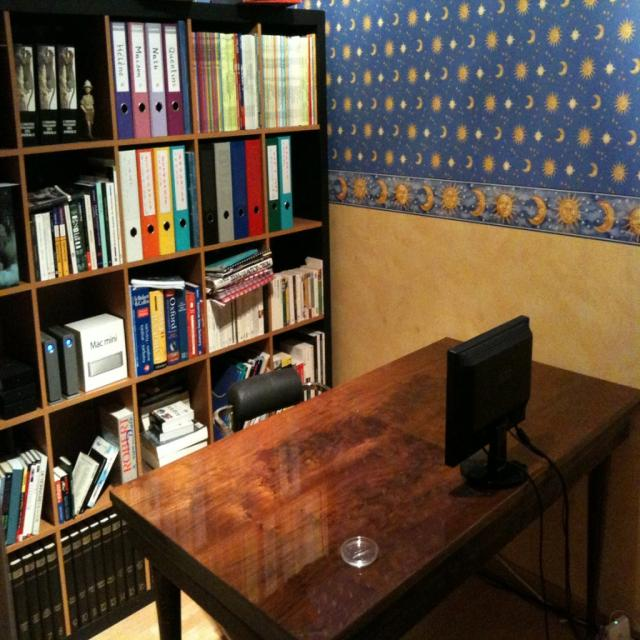desk: (111, 336, 638, 636)
